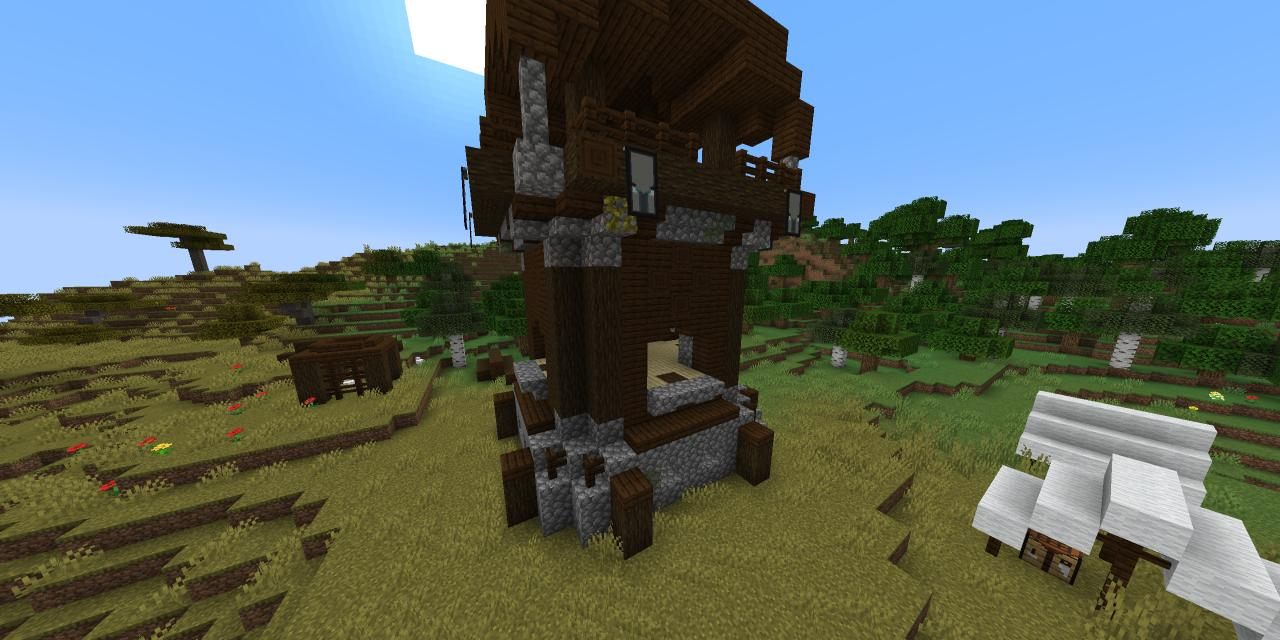pillager outpost: (447, 0, 833, 576)
